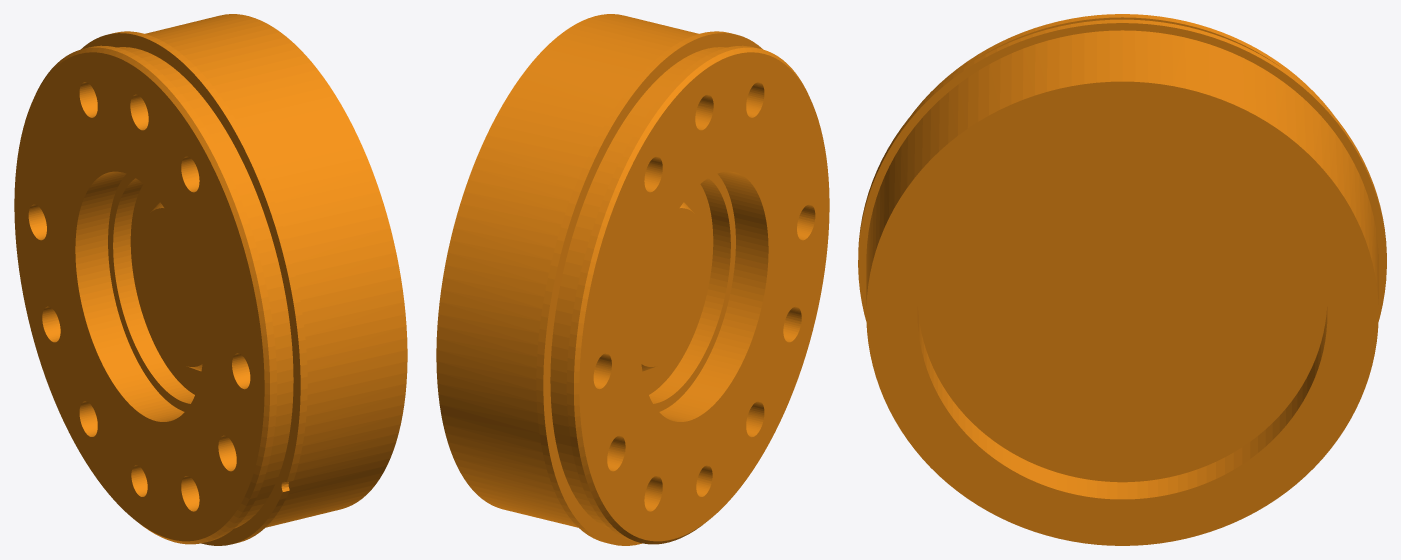
The model's file is kuka6.dae.
3 views of the same model, side by side, from view 1: azimuth 30°, elevation 25°; view 2: azimuth 150°, elevation 25°; view 3: azimuth 270°, elevation 25° (orthographic).
Visible parts, largest first — view 1: 6; view 2: 6; view 3: 6.
Boxes of the visible parts, <box> form: 6: <box>14,14,407,545</box>; 6: <box>436,14,829,545</box>; 6: <box>858,14,1386,545</box>.
Size of the model in its own units: 0.004 by 0.0129 by 0.0129.
